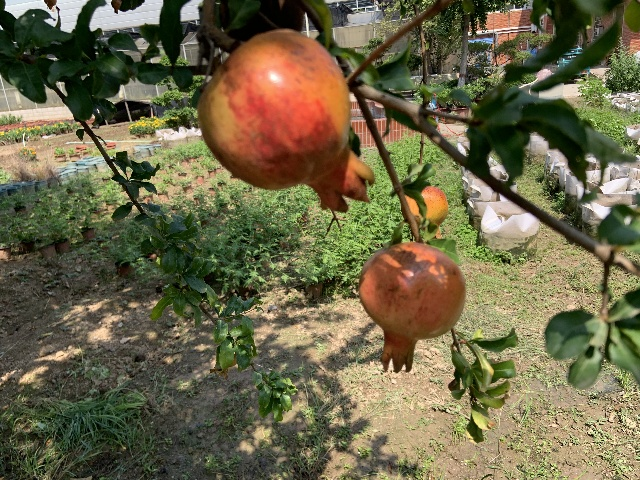ripe: (196, 29, 376, 212), (358, 242, 466, 373), (400, 185, 448, 239)
